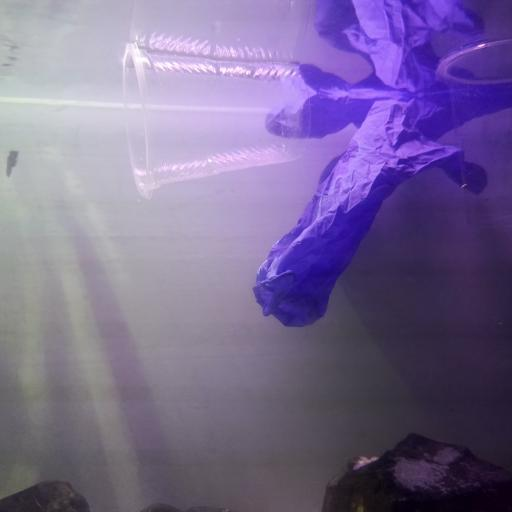glove: (250, 0, 512, 328)
plastic_cup: (117, 42, 312, 200), (435, 37, 512, 231)
